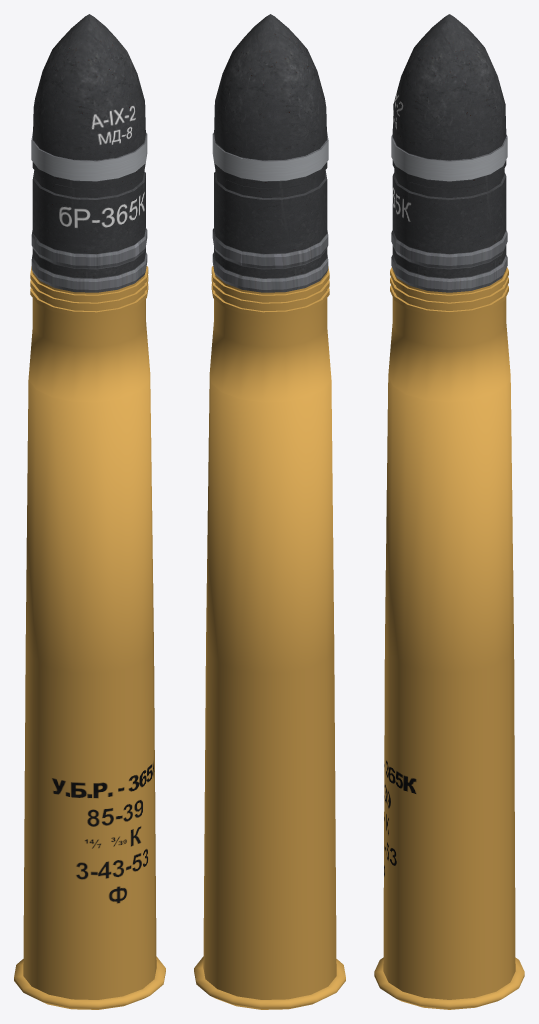
3 renders of one model, left to right at view 1: azimuth 30°, elevation 25°; view 2: azimuth 150°, elevation 25°; view 3: azimuth 270°, elevation 25°, orthographic.
Visible parts, largest first — view 1: BR365K; view 2: BR365K; view 3: BR365K.
Boxes of the visible parts, left/top/right/bottom form: BR365K: left=14, top=14, right=165, bottom=1009; BR365K: left=194, top=14, right=345, bottom=1009; BR365K: left=374, top=14, right=524, bottom=1009.
Bounding box in the file's own units: 4.25 × 29.53 × 4.17.
Materials: 4 (4 with a texture image).
